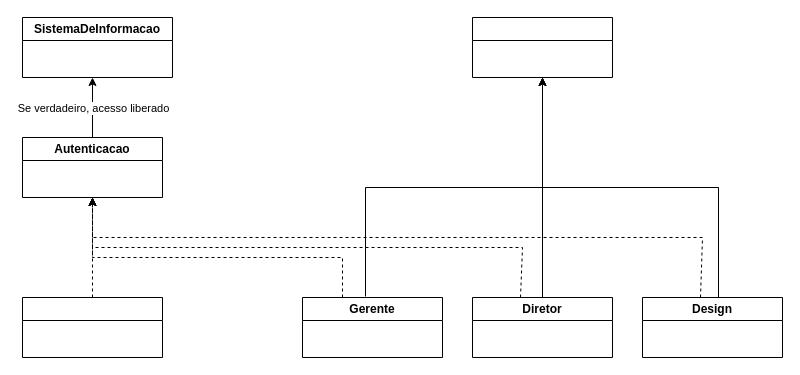
Image size: 800x375. Some labels were removed from this diagram. Each missing label, with the centre of its shape:
"Cliente" belongs at (x=92, y=327).
"Funcionario" belongs at (x=542, y=47).
